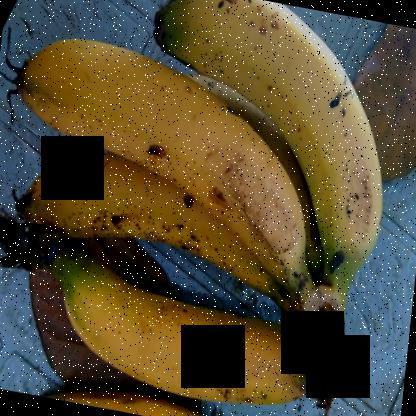ripe: (0, 29, 320, 295), (165, 0, 392, 269), (32, 244, 308, 410), (5, 162, 302, 287)
